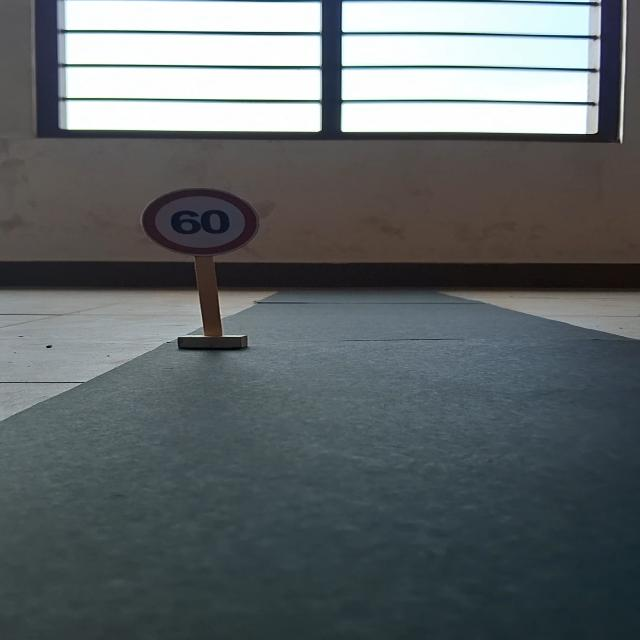Speed60: (136, 186, 265, 256)
